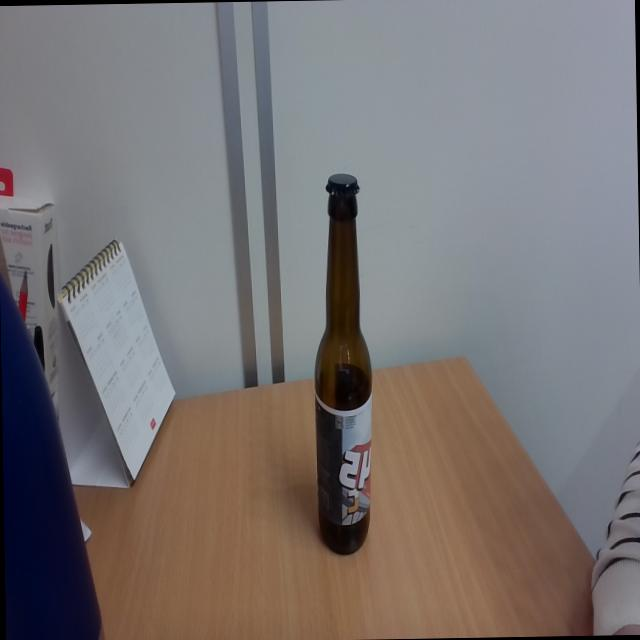Bottle: (308, 172, 376, 557)
Cap: (321, 172, 360, 202)
Label: (314, 402, 374, 526)
